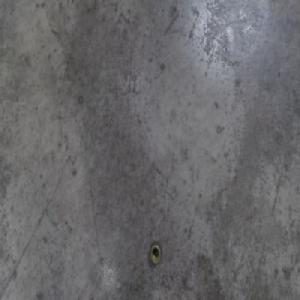Nut: (149, 241, 161, 266)
